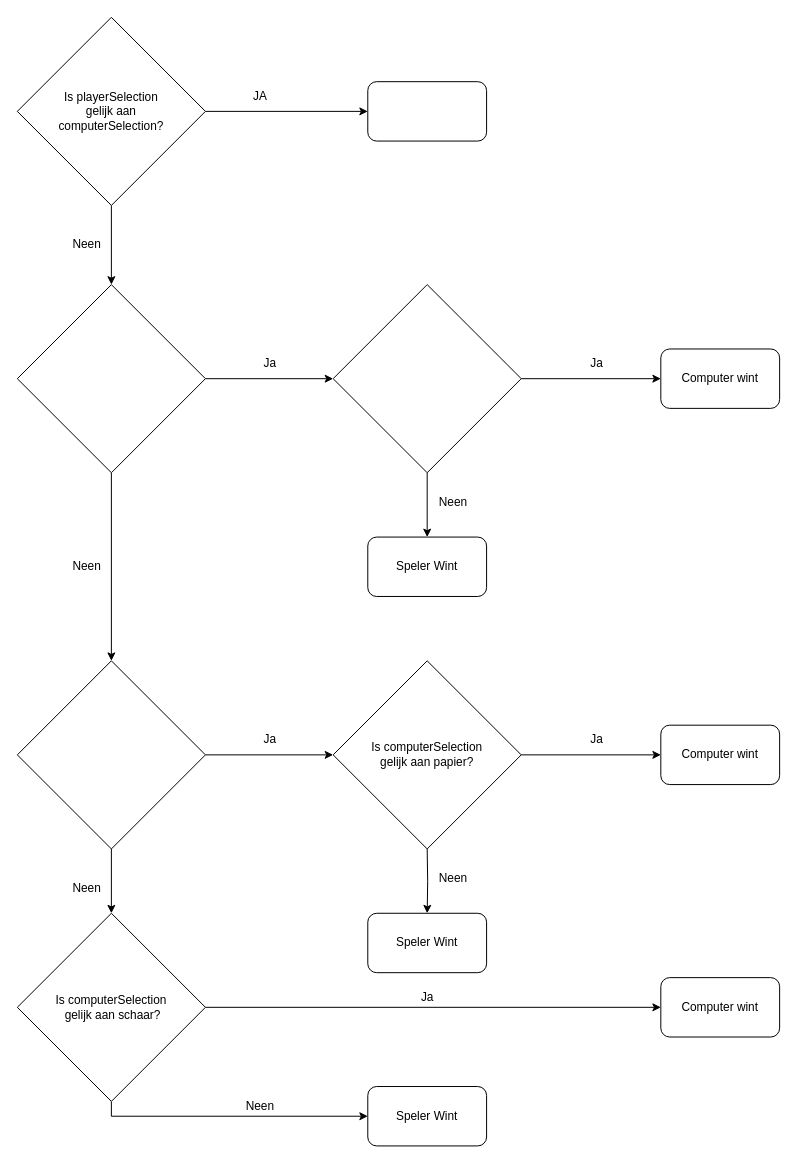
Image size: 797x1163. Some labels were removed from this diagram. The centre of each missing label's shape, as x and y in pixels:
"Gelijkspel" goes at pixel 427 111.
"Is computerSelection gelijk aan steen?" goes at pixel 426 378.
"Is playerSelection gelijk aan schaar?" goes at pixel 110 378.
"Is playerSelection gelijk aan steen?" goes at pixel 110 754.
